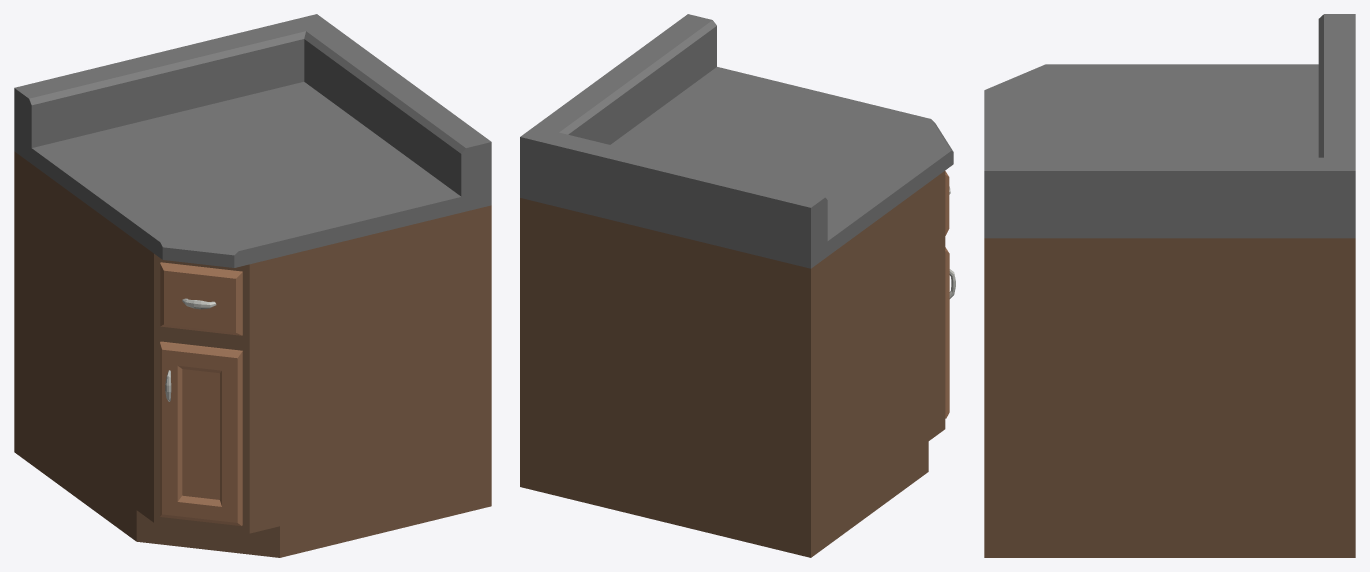
Rendered from Structure_Kitchen_Cabinet_Base_Corner.obj.
The picture shows the model from 3 angles, left to right: view 1: azimuth 30°, elevation 25°; view 2: azimuth 150°, elevation 25°; view 3: azimuth 270°, elevation 25°; orthographic projection. The views are drawn at different scales.
Visible parts, largest first — view 1: object3, object2, object6, object1; view 2: object3, object2, object6; view 3: object3, object2.
Part boxes in pixels (x1,y1,x2,y2): object3: (14, 151, 491, 557); object2: (14, 14, 491, 267); object6: (160, 341, 242, 526); object1: (160, 262, 242, 335); object3: (520, 171, 945, 557); object2: (520, 14, 953, 268); object6: (945, 247, 949, 418); object3: (984, 238, 1355, 557); object2: (984, 14, 1355, 238).
Size of the model in its own units: 1 by 1.15 by 1.
